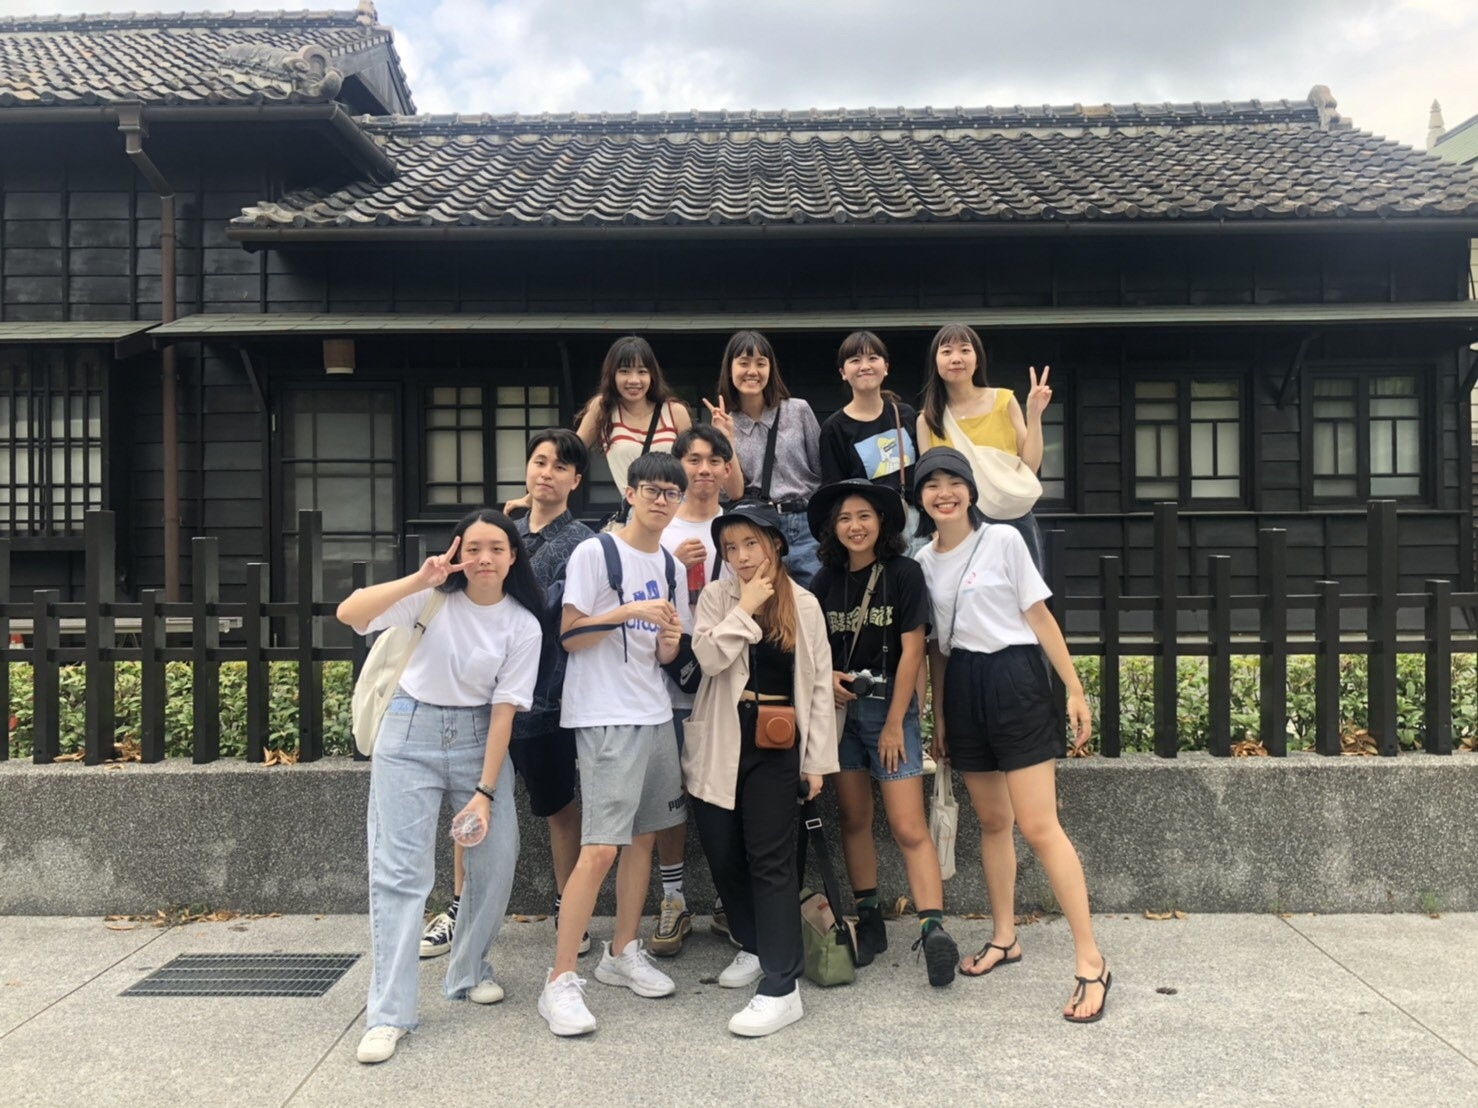people: (906, 450, 1108, 1019), (377, 507, 527, 1063), (815, 475, 958, 984), (563, 450, 686, 1040), (698, 505, 808, 1038), (492, 432, 588, 938), (702, 332, 827, 571), (925, 325, 1046, 552), (825, 332, 919, 540), (592, 338, 702, 500)
